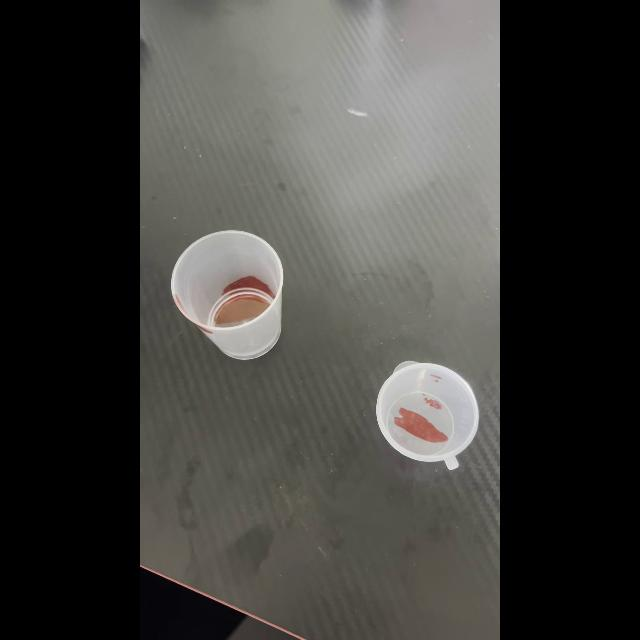dirty: (170, 230, 284, 358), (376, 362, 480, 468)
